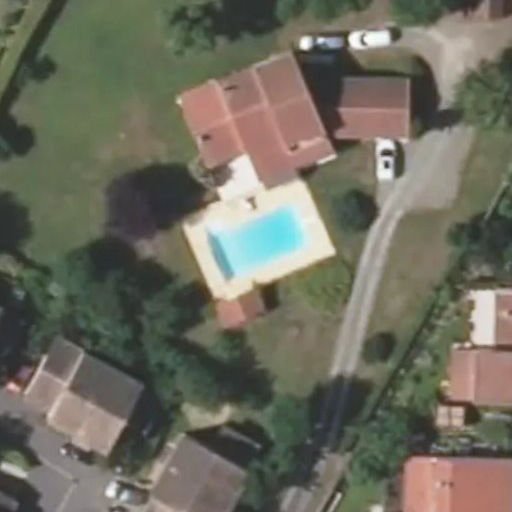pool: (196, 204, 312, 281)
